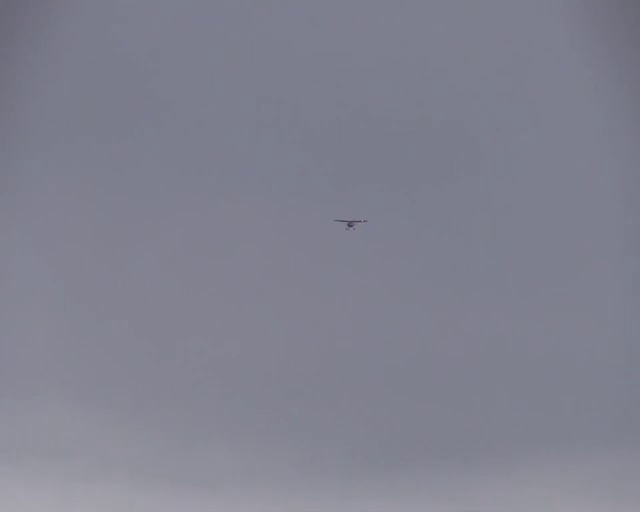AIRPLANE: (333, 219, 368, 230)
